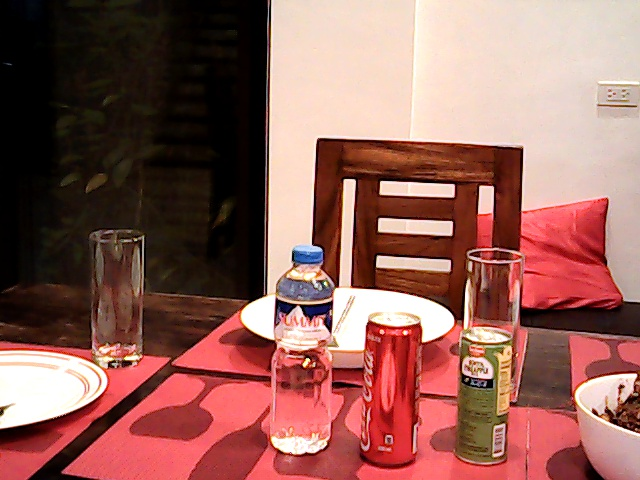Cola: (358, 304, 423, 468)
Pine Juice: (453, 322, 517, 466)
Summit Water: (265, 238, 335, 457)
